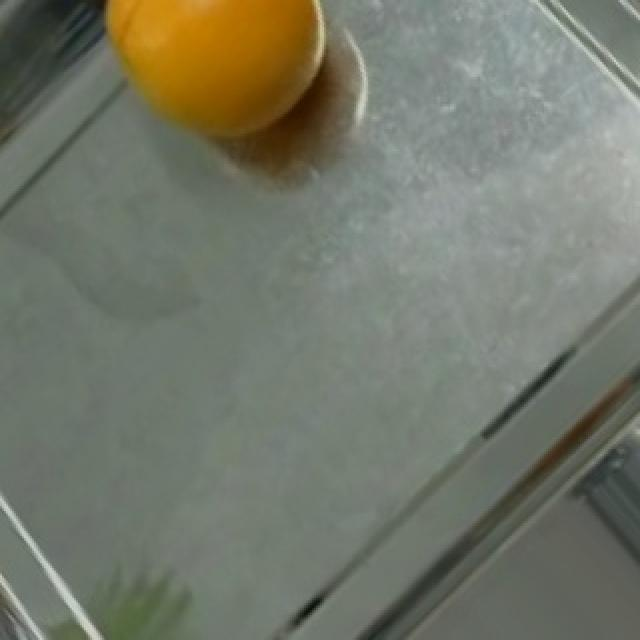Fruit: (80, 0, 350, 166)
